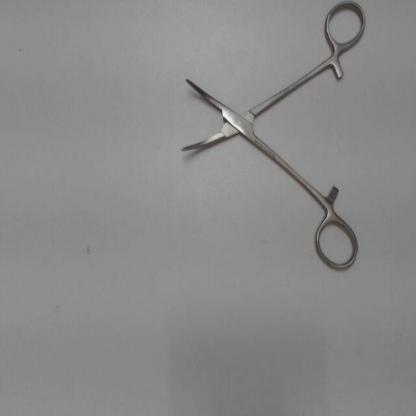Crile Artery Forceps: (176, 1, 368, 278)
